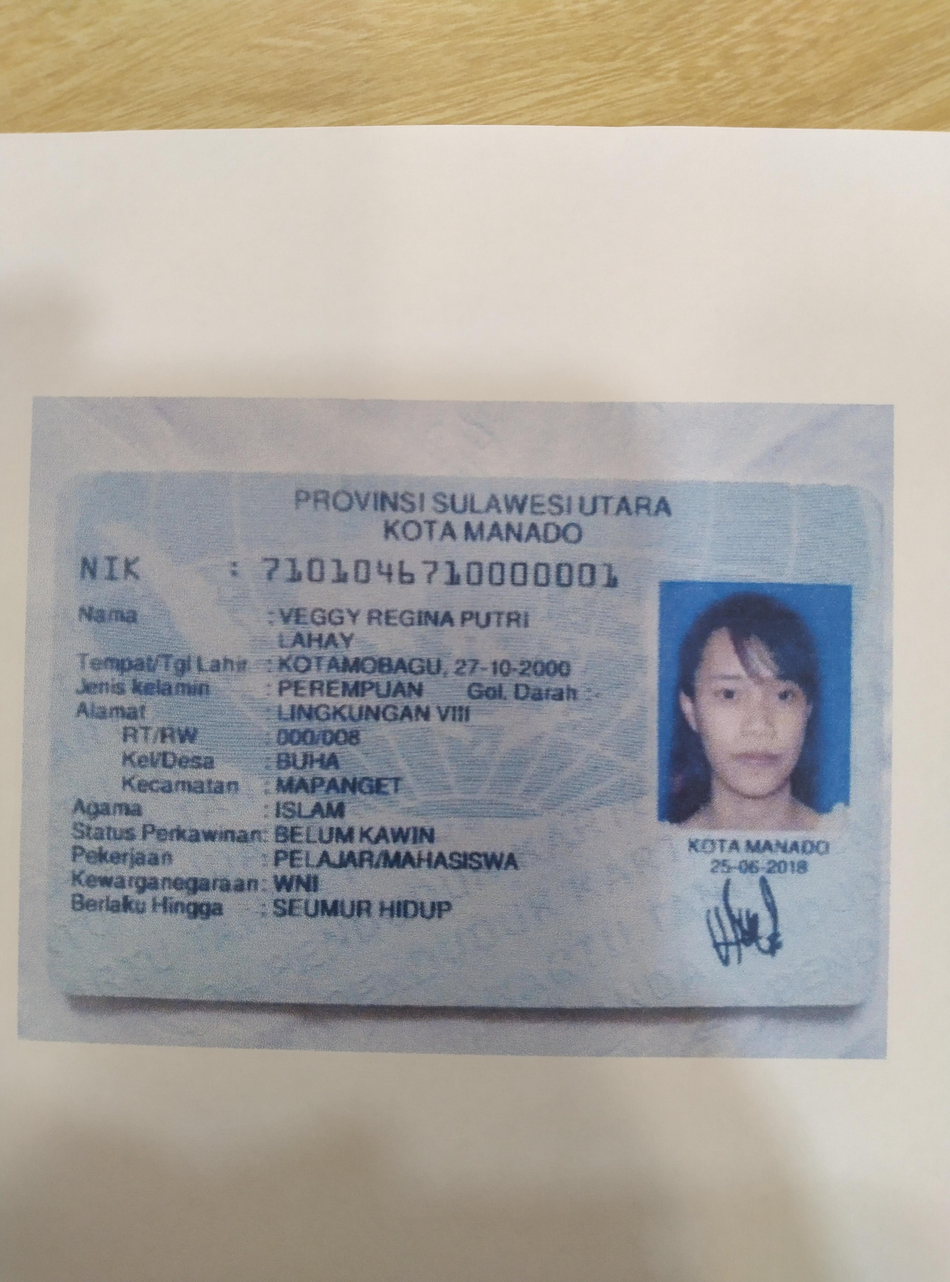ktp: (50, 477, 869, 1003)
